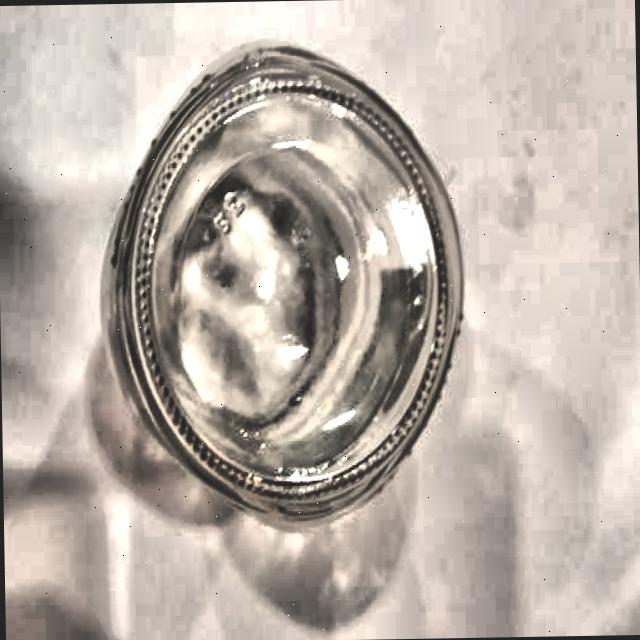glass: (100, 40, 467, 532)
